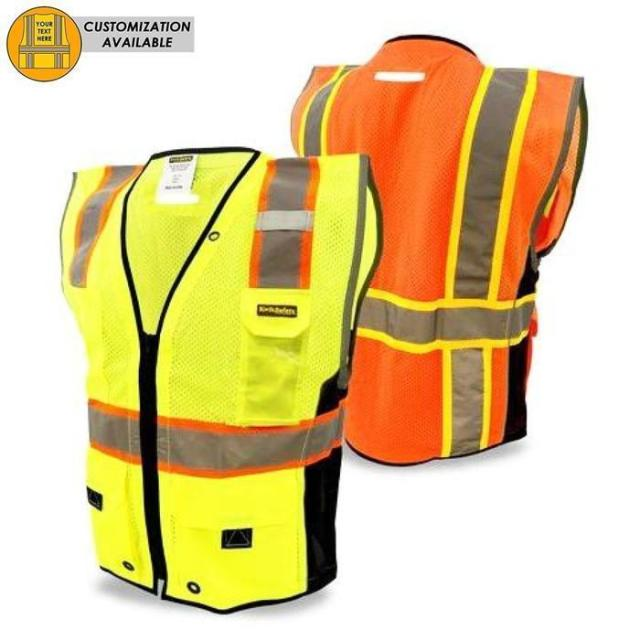Vest: (57, 146, 384, 612), (287, 32, 585, 463)
